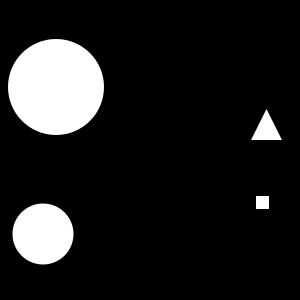circle: (256, 196, 269, 209)
rectangle: (8, 39, 104, 135), (13, 204, 74, 264)
triangle: (251, 109, 282, 140)
